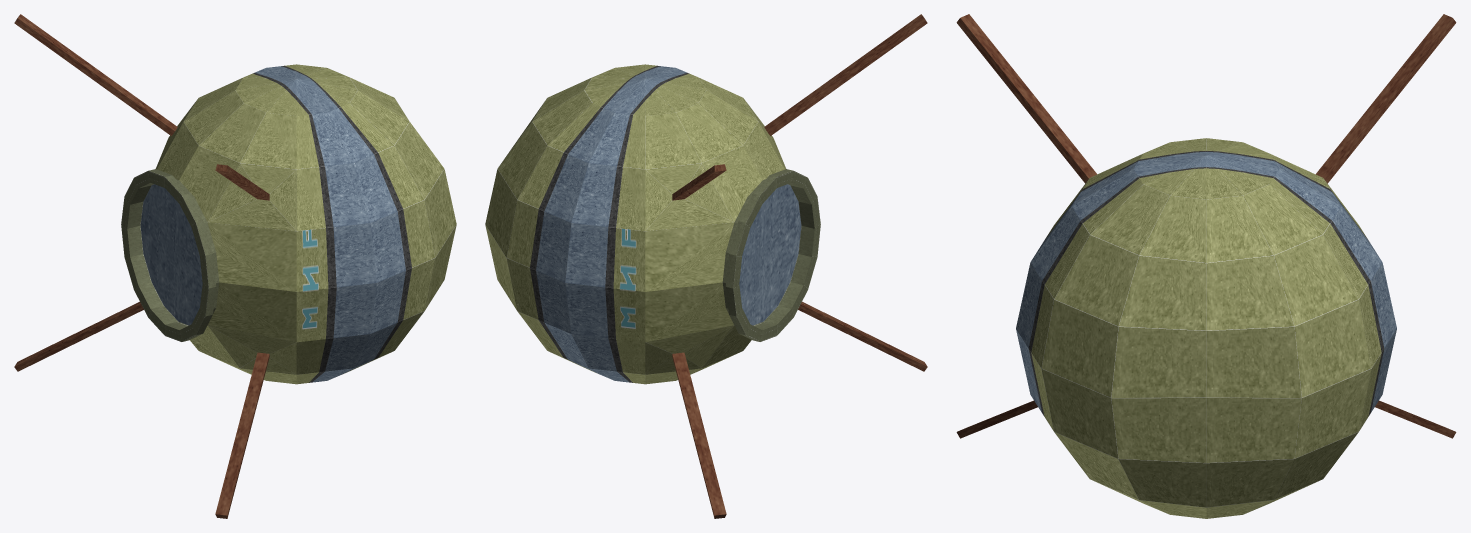
File: Large1.fbx
The picture shows the model from 3 angles, left to right: view 1: azimuth 30°, elevation 25°; view 2: azimuth 150°, elevation 25°; view 3: azimuth 270°, elevation 25°; orthographic projection. The views are drawn at different scales.
Parts seen in each view (by area): view 1: Body_2; view 2: Body_2; view 3: Body_2.
Boxes of the visible parts, x1,y1,x2,y2 form: Body_2: [14, 14, 456, 518]; Body_2: [485, 14, 927, 518]; Body_2: [956, 14, 1456, 518].
Bounding box in the file's own units: 118 × 132 × 142.
